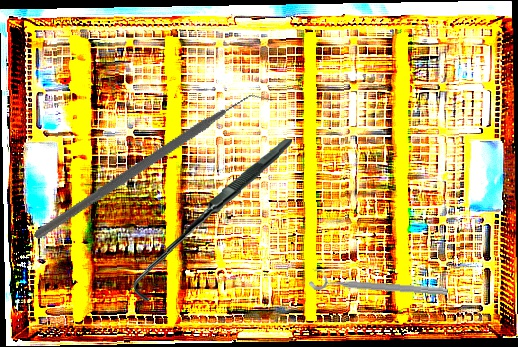Chopper: (33, 32, 274, 304)
Fixation Ring: (308, 267, 449, 299)
Hook Surgical: (127, 138, 300, 302)
